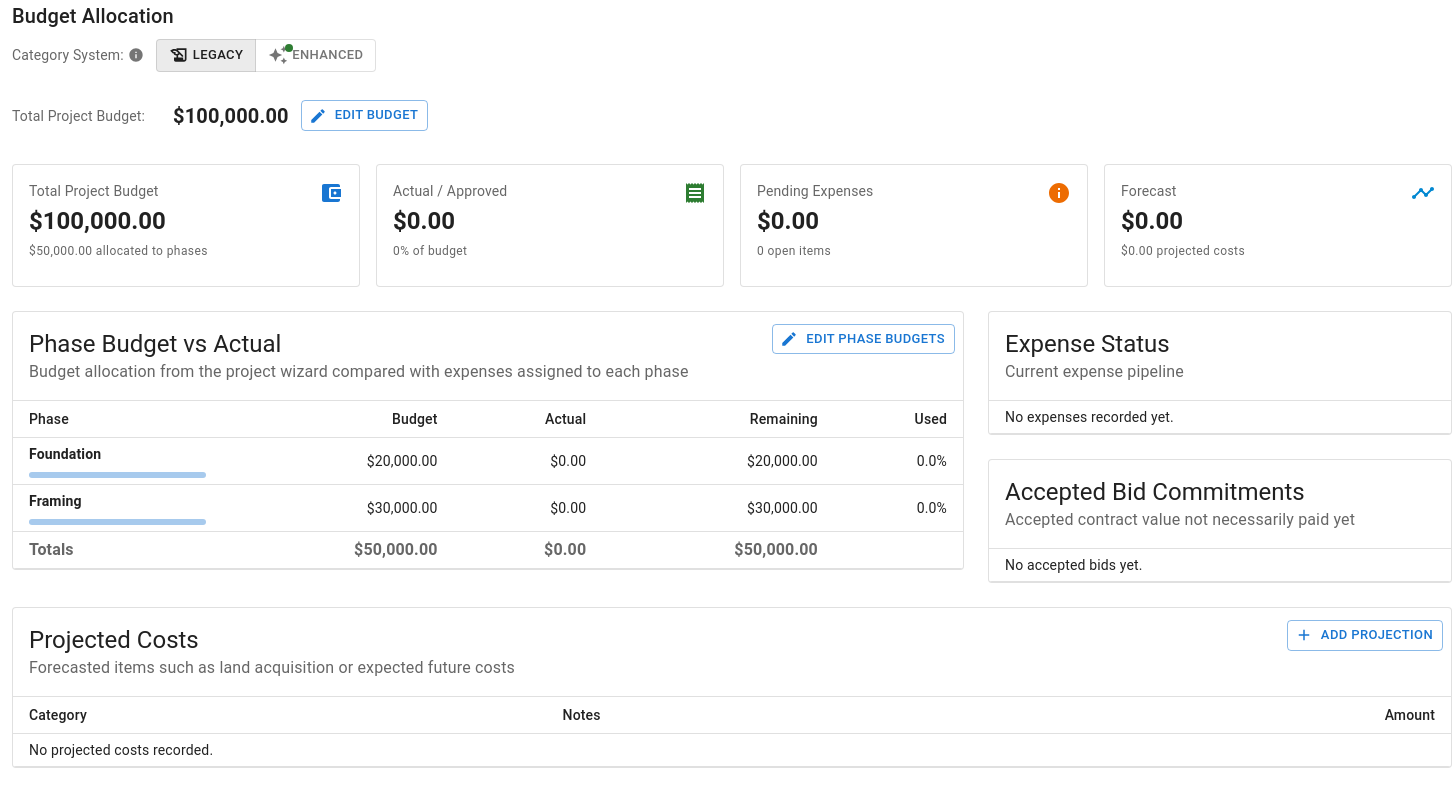
Test: BudgetAllocationTracker › lets users update phase budget allocations from the budget page
This screenshot has width=1452, height=806.
Expected: the text "Foundation" is shown, [29,446,101,462]
Click the button "Edit Phase Budgets" at point(864, 339), box [772,324,955,354]
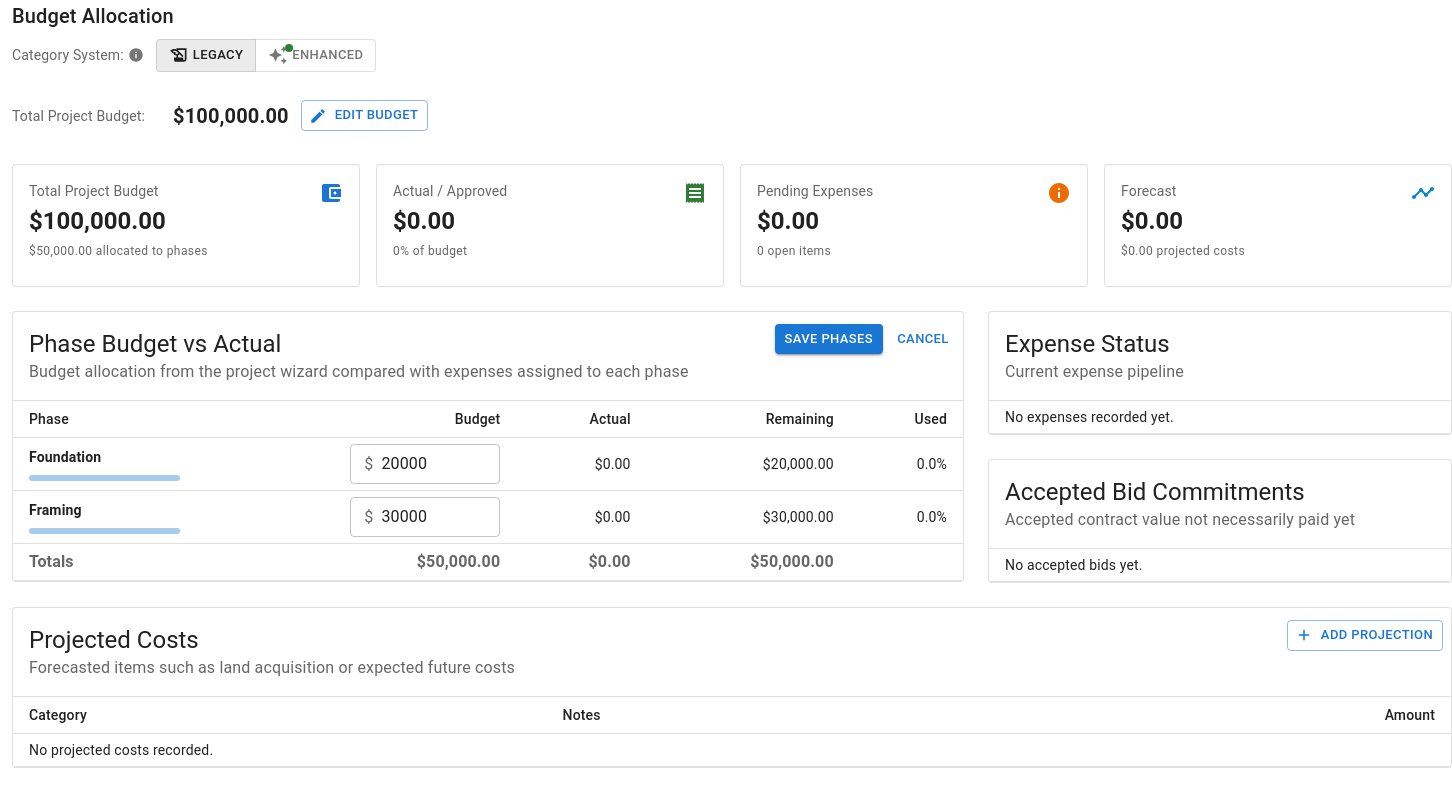
Replace the text in the number field showing "20000" in the row of "Foundation" with "25000" at point(441, 464), box [381,444,500,484]
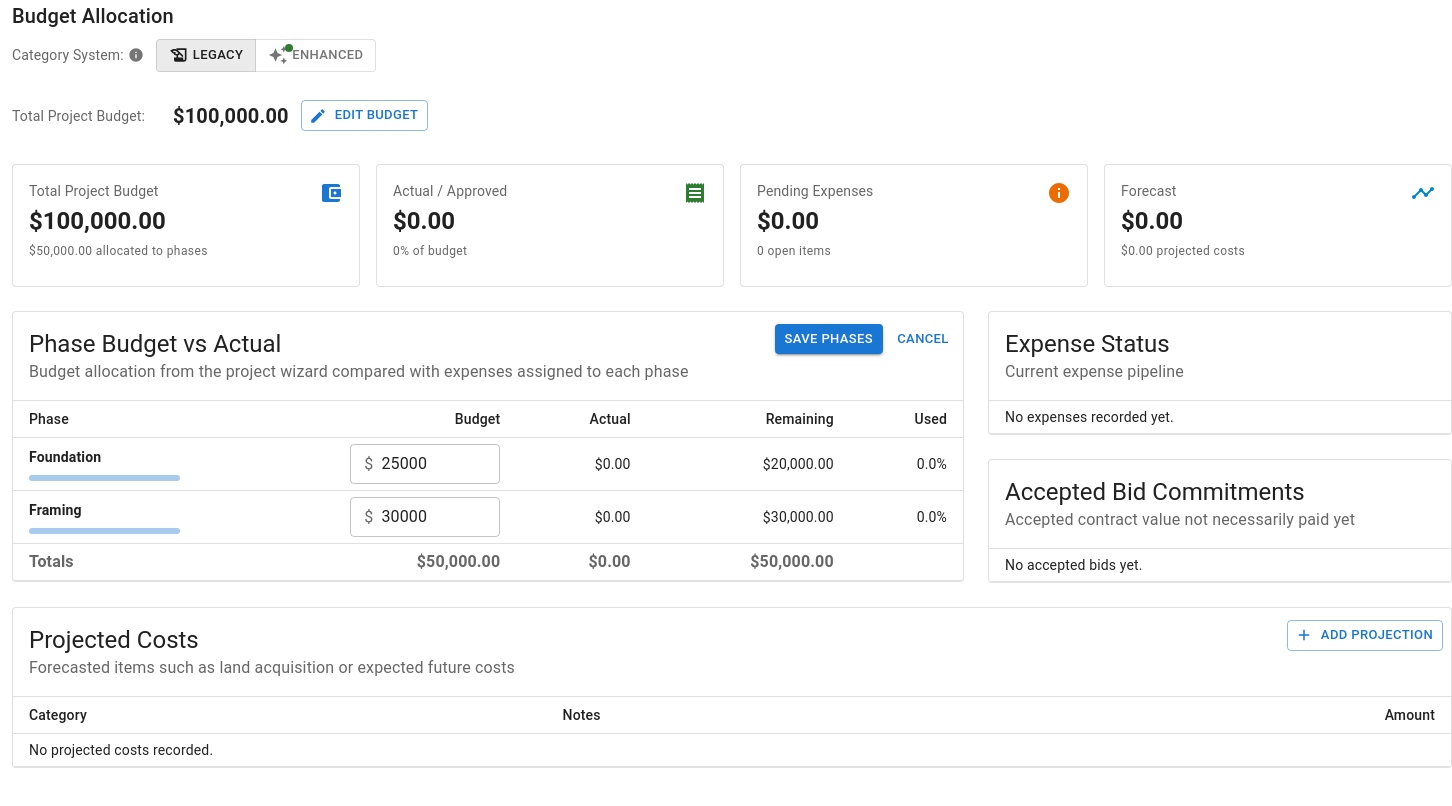
Click the button "Save Phases" at point(829, 339), box [774,324,883,354]
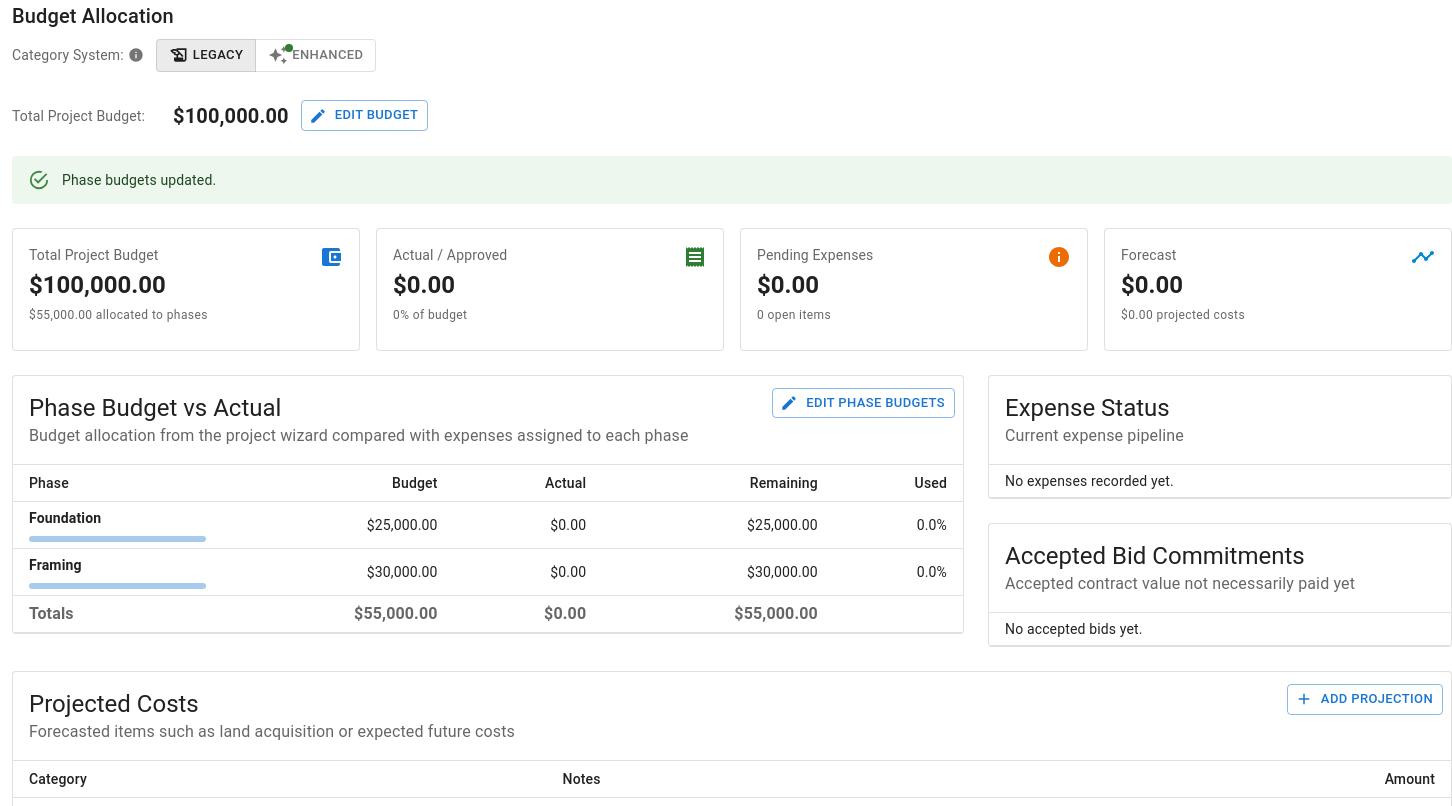
Expected: the 1st text "$25,000.00" is shown, [222,501,454,548]
